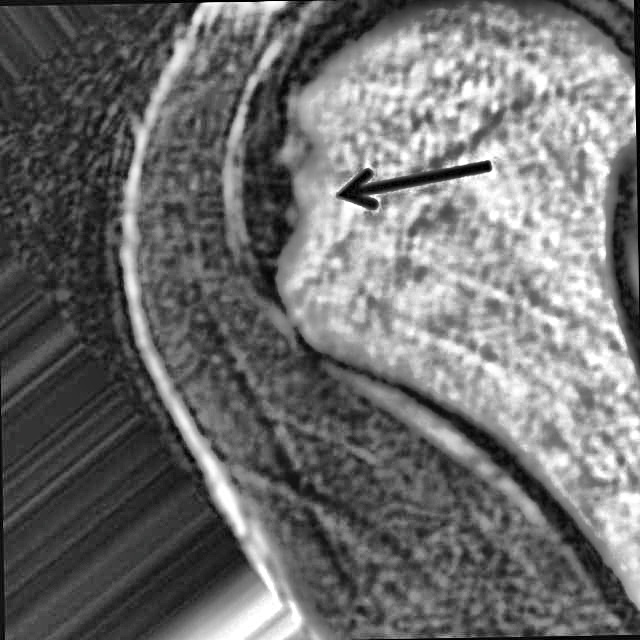Comminuted: (226, 83, 334, 301)
